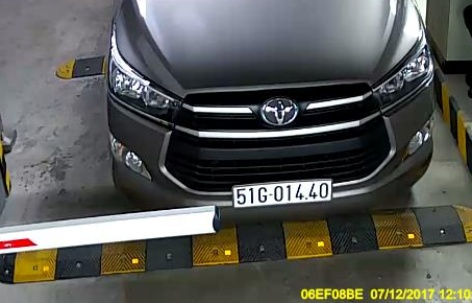plate: (221, 172, 343, 214)
